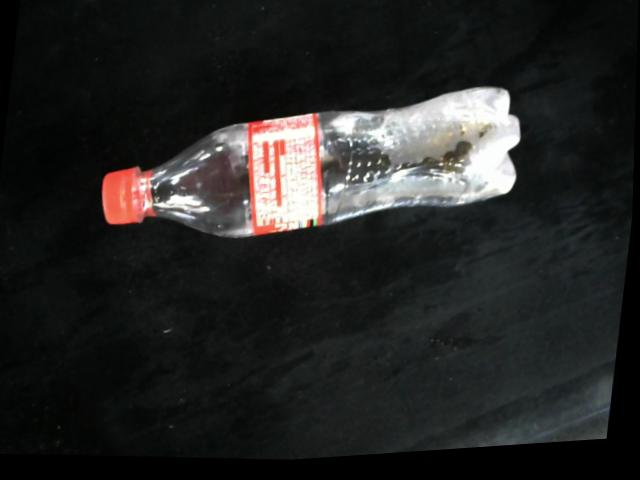bottle: (101, 92, 525, 243)
